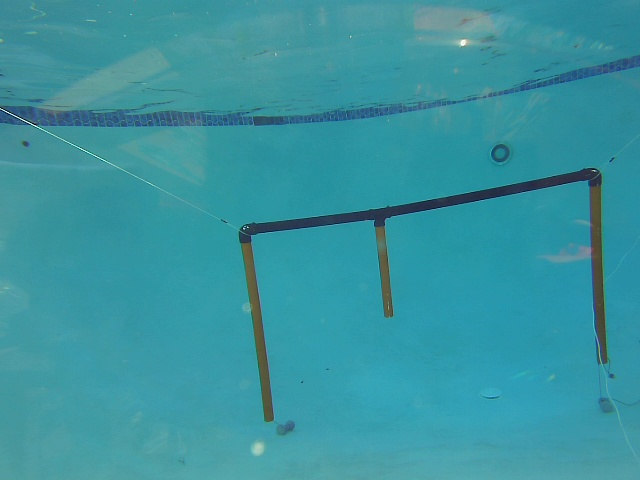Gate: (238, 237, 277, 424), (586, 182, 611, 366), (373, 221, 396, 320)
